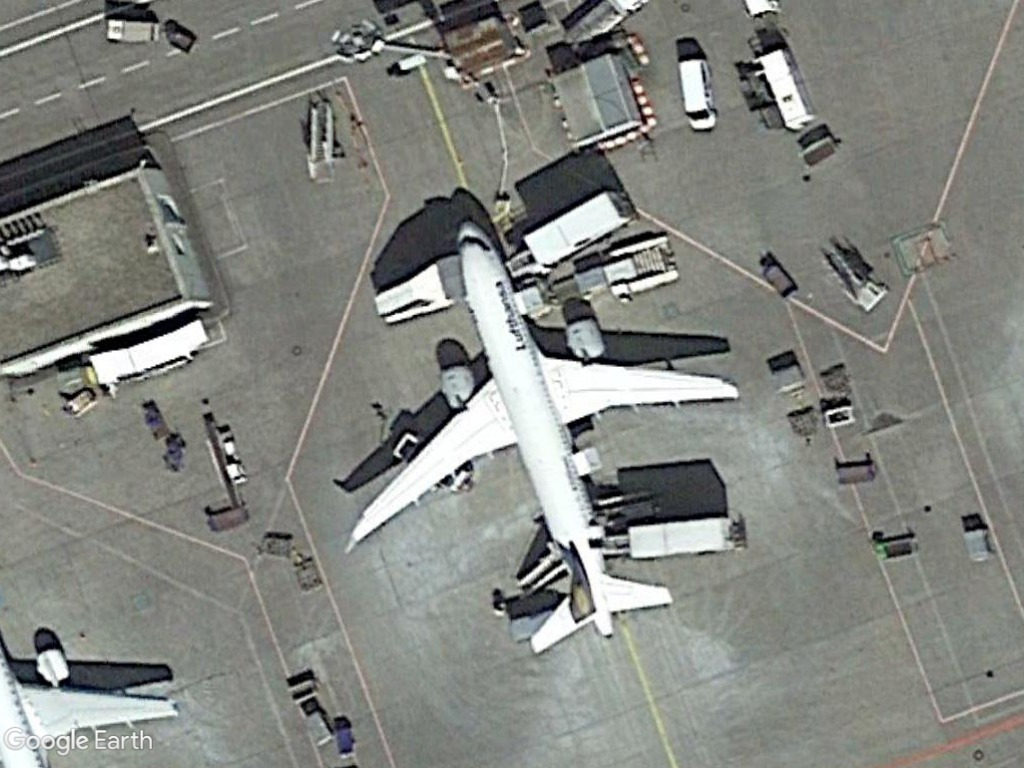airliner: (333, 214, 745, 669)
longvehicle: (624, 512, 750, 564)
pushbacktruck: (577, 230, 677, 302)
van: (674, 54, 720, 135)
